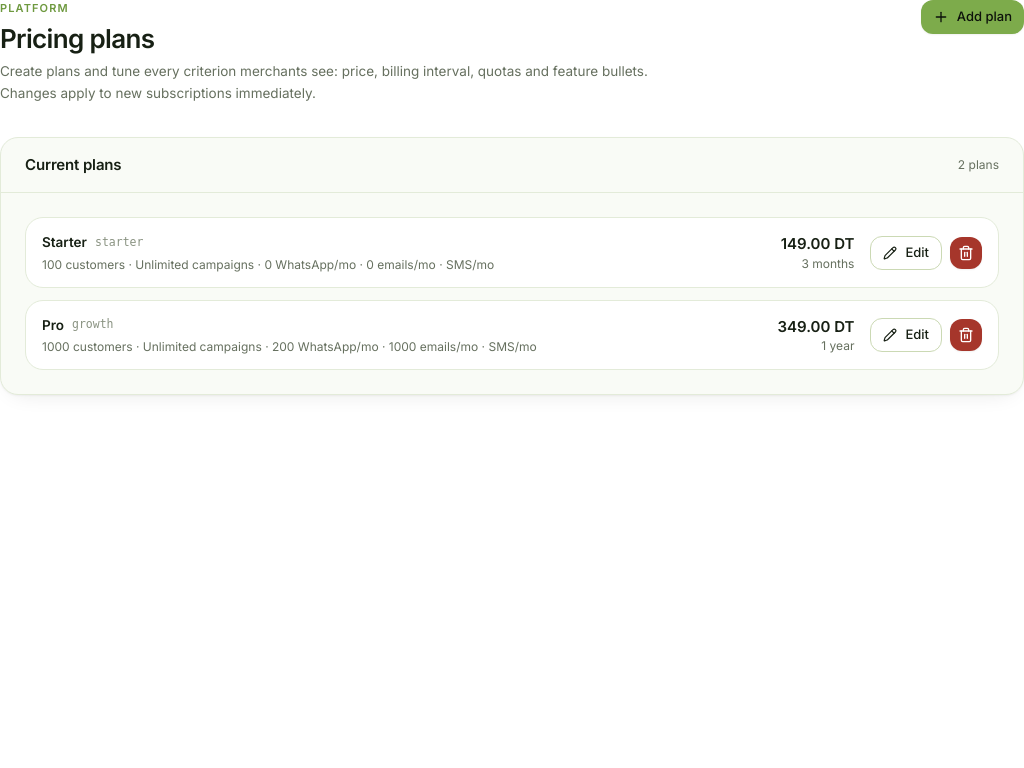
Test: AdminPlansManager › edits a plan and stores the tuned criteria
The image size is (1024, 768).
Click the button with aria-label "Edit Pro": (906, 335) [870, 318, 942, 352]
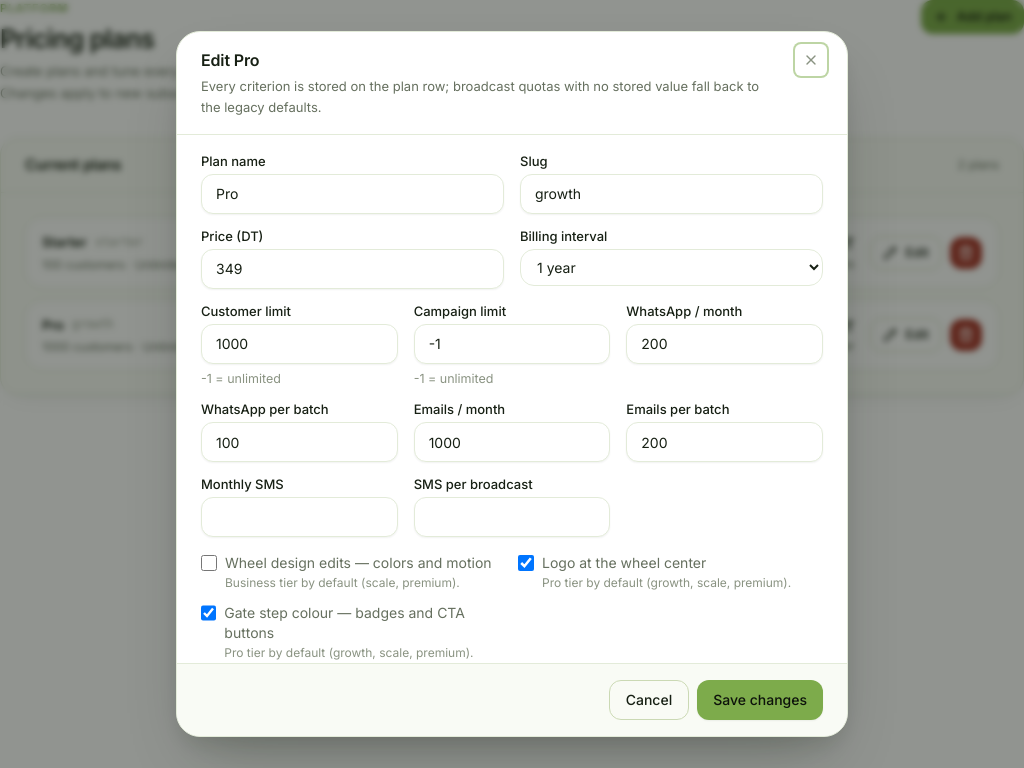
Check: the heading "Edit Pro" is shown, box [201, 50, 259, 70]
Replace the text in the field labelled "Plan name" with "Pro Max": (352, 194) [201, 174, 504, 214]
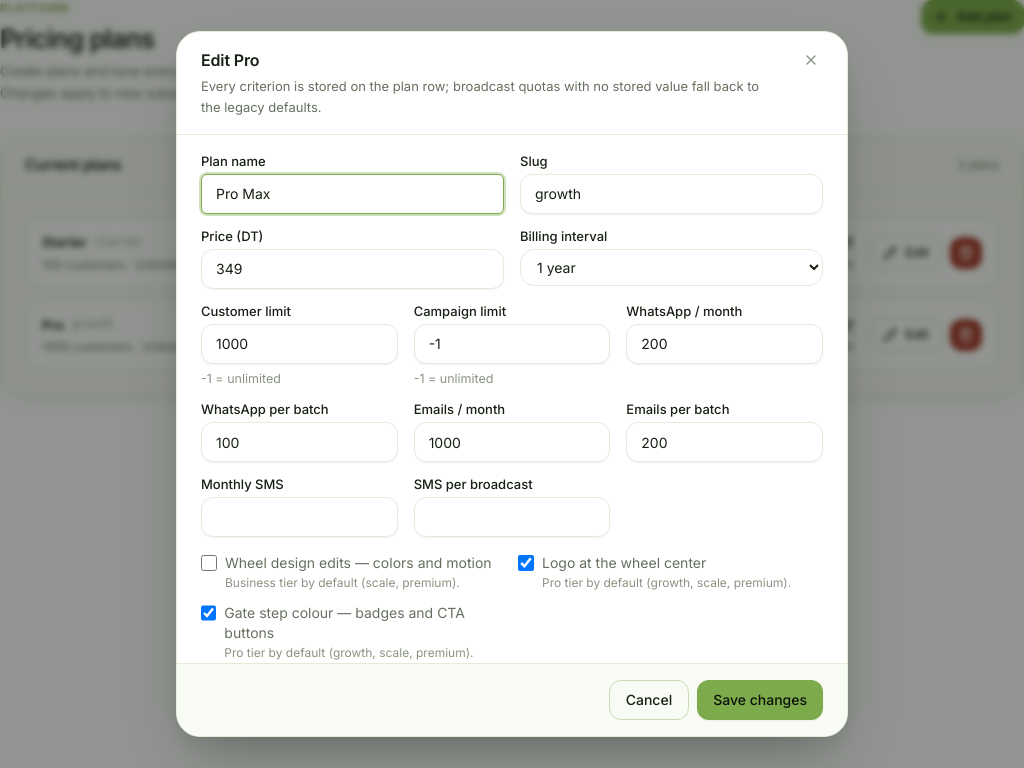
Replace the text in the number field labelled "Customer limit" with "2500": (299, 344) [201, 324, 398, 364]
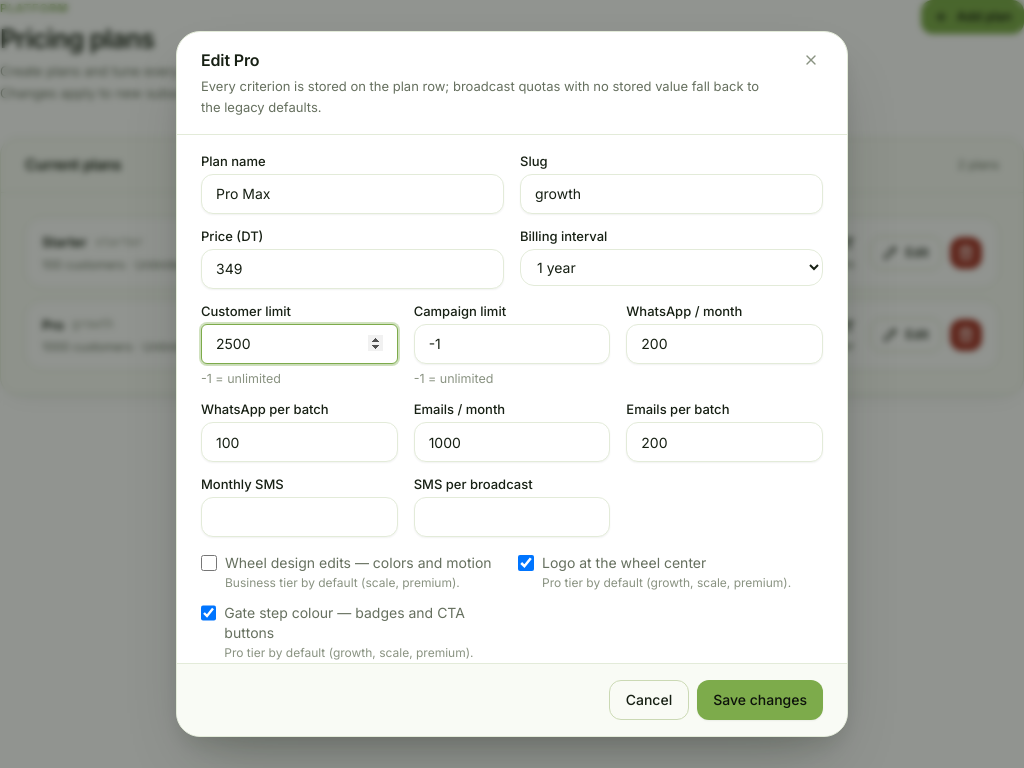
Check: the checkbox labelled "Wheel design edits" is not checked
Check: the checkbox labelled "Logo at the wheel center" is checked, box [518, 555, 534, 571]
Check: the checkbox labelled "Gate step colour" is checked, box [201, 605, 216, 621]
Click the checkbox labelled "Wheel design edits": (209, 563) [201, 555, 217, 571]
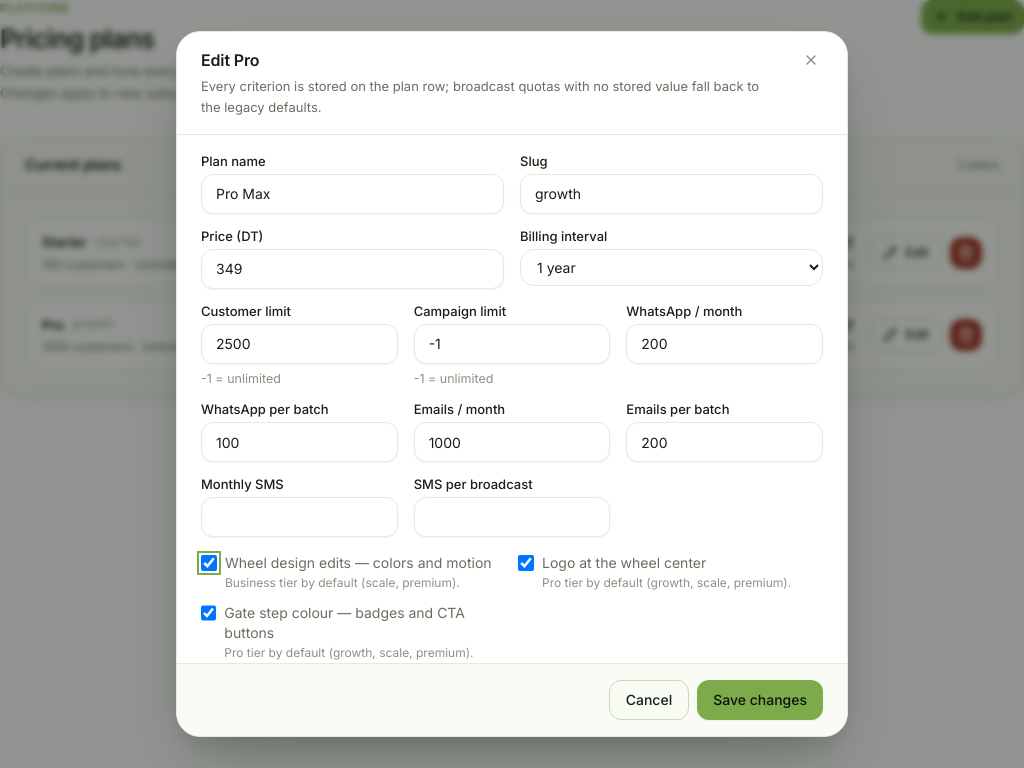
Click the checkbox labelled "Gate step colour": (209, 613) [201, 605, 216, 621]
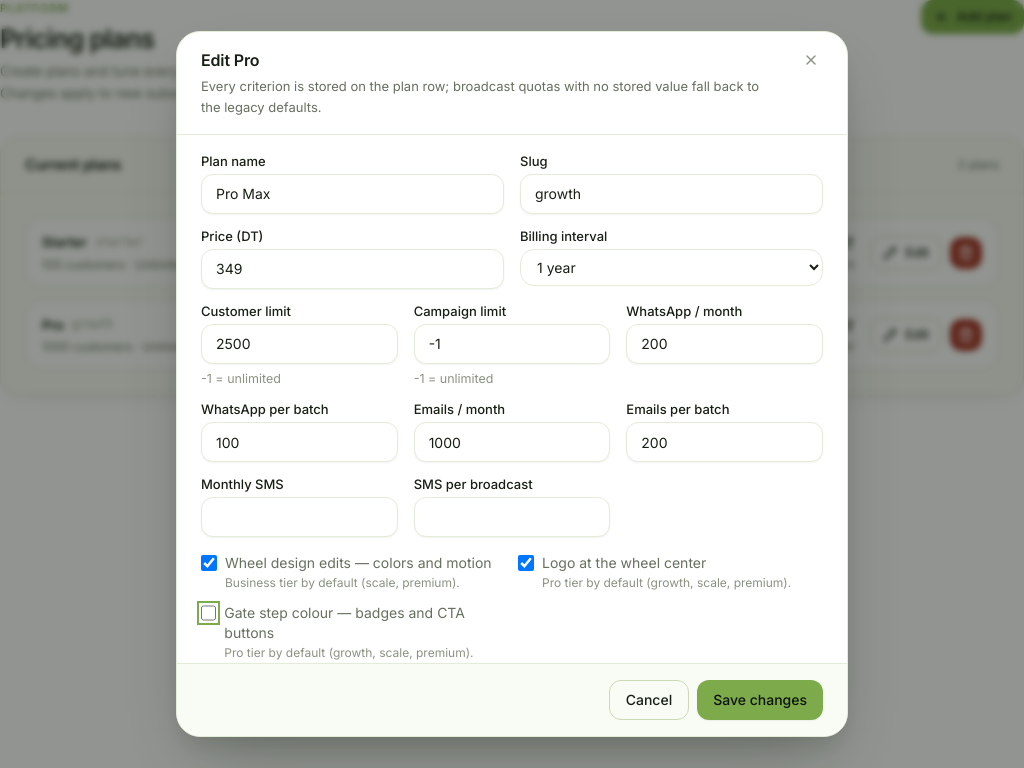
Click the button "Save changes": (760, 700) [697, 680, 823, 720]
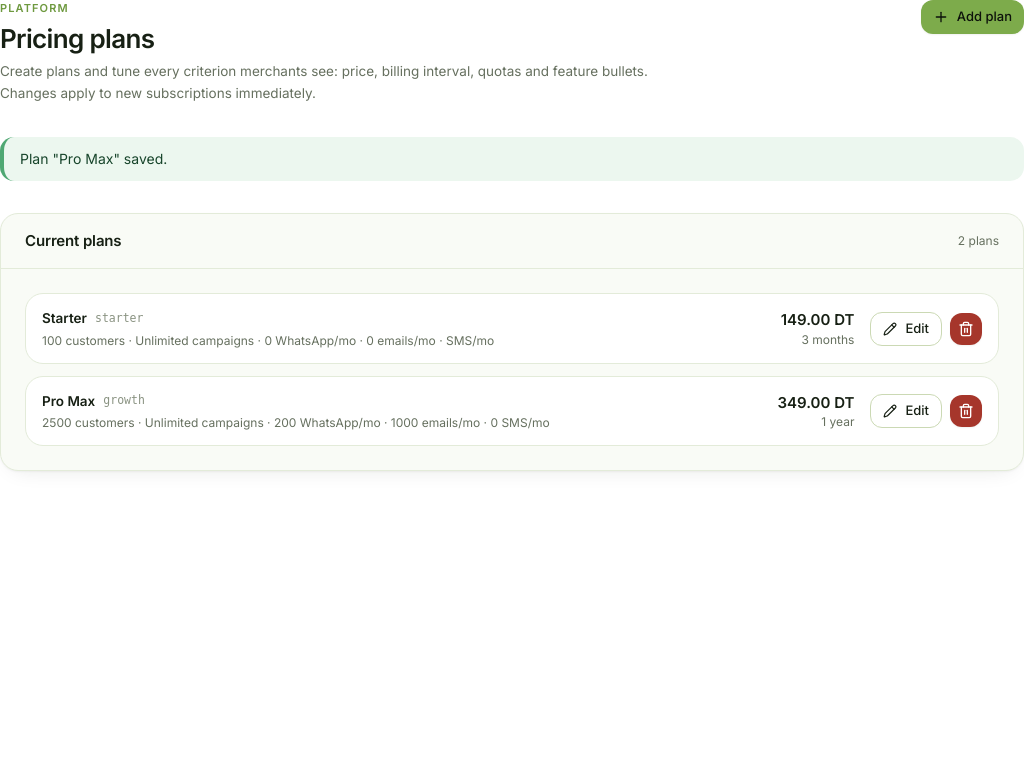
Check: the message reads "Plan \"Pro Max\" saved.", box [20, 150, 167, 167]
Check: the text "Pro Max" is shown, box [42, 393, 95, 409]
